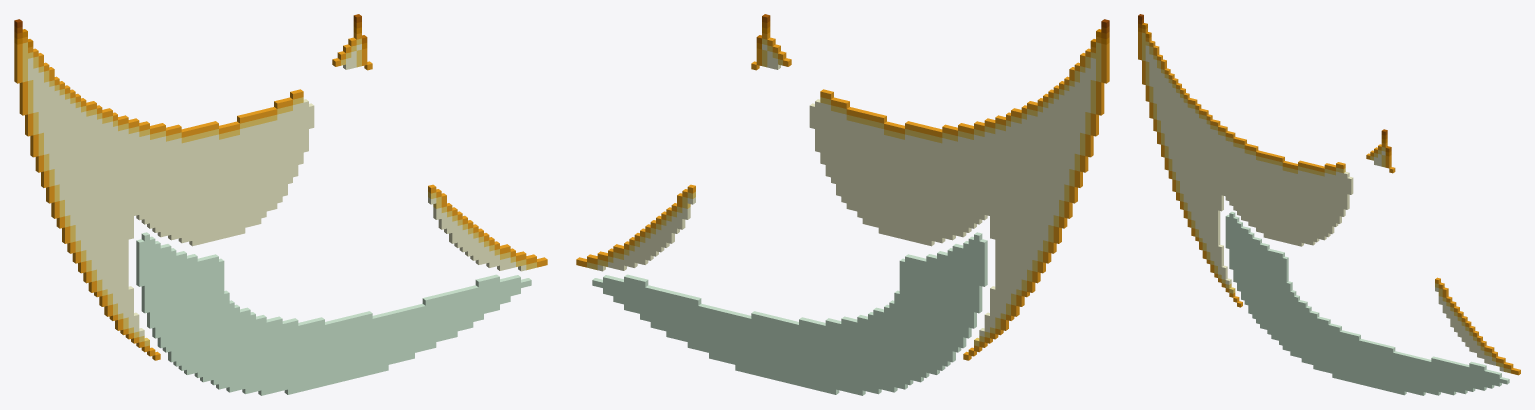
Rendered from Fight_116_2_05_fx.obj.
The picture shows the model from 3 angles, left to right: view 1: azimuth 30°, elevation 25°; view 2: azimuth 150°, elevation 25°; view 3: azimuth 330°, elevation 25°; orthographic projection. The views are drawn at different scales.
Bounding box in the file's own units: 10 × 7.9 × 0.1.
